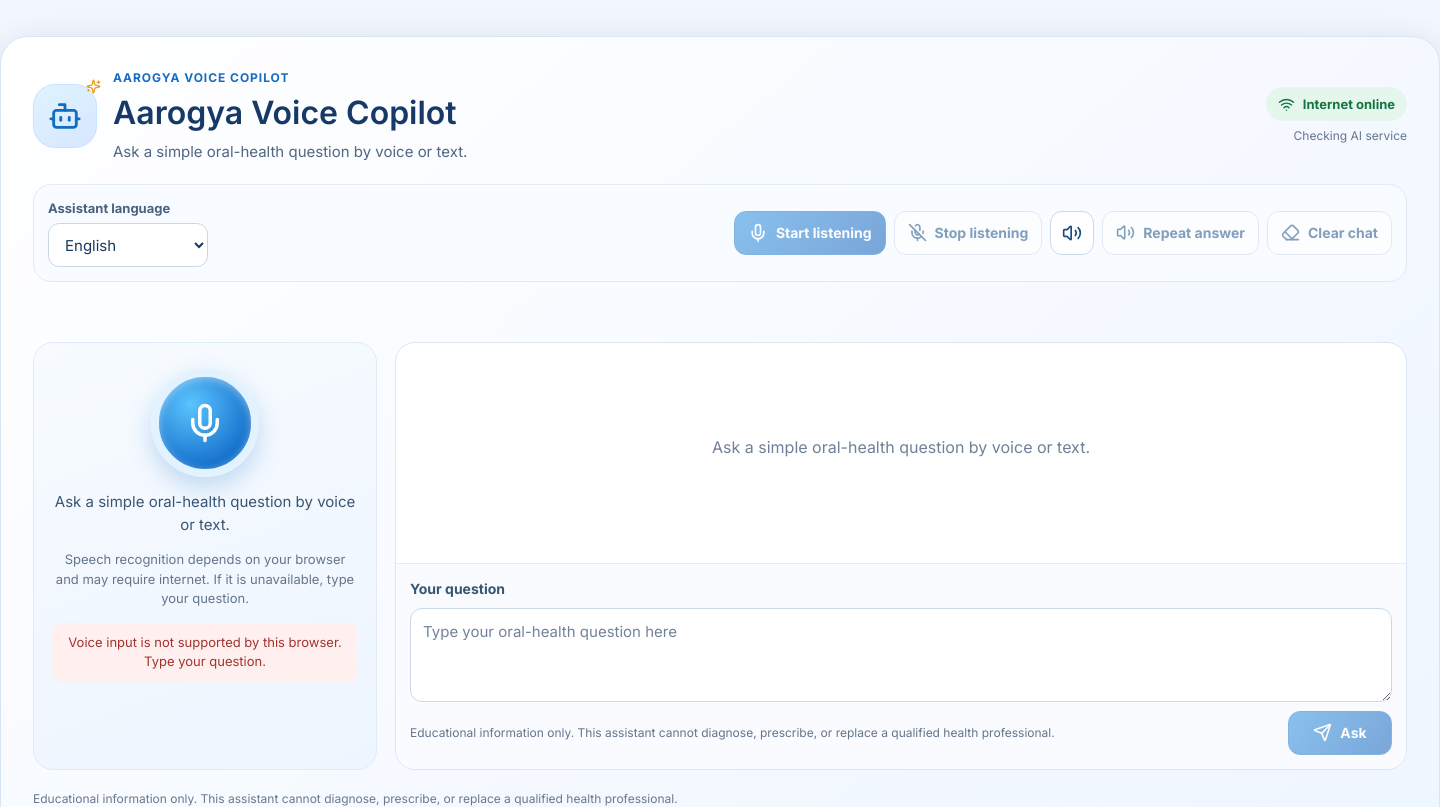
Test case: Home Page voice copilot › sends online questions to the backend in the selected language and speaks the answer
Type "What is oral cancer?" into the text box labelled "Your question" at (901, 655), box [410,608,1392,702]
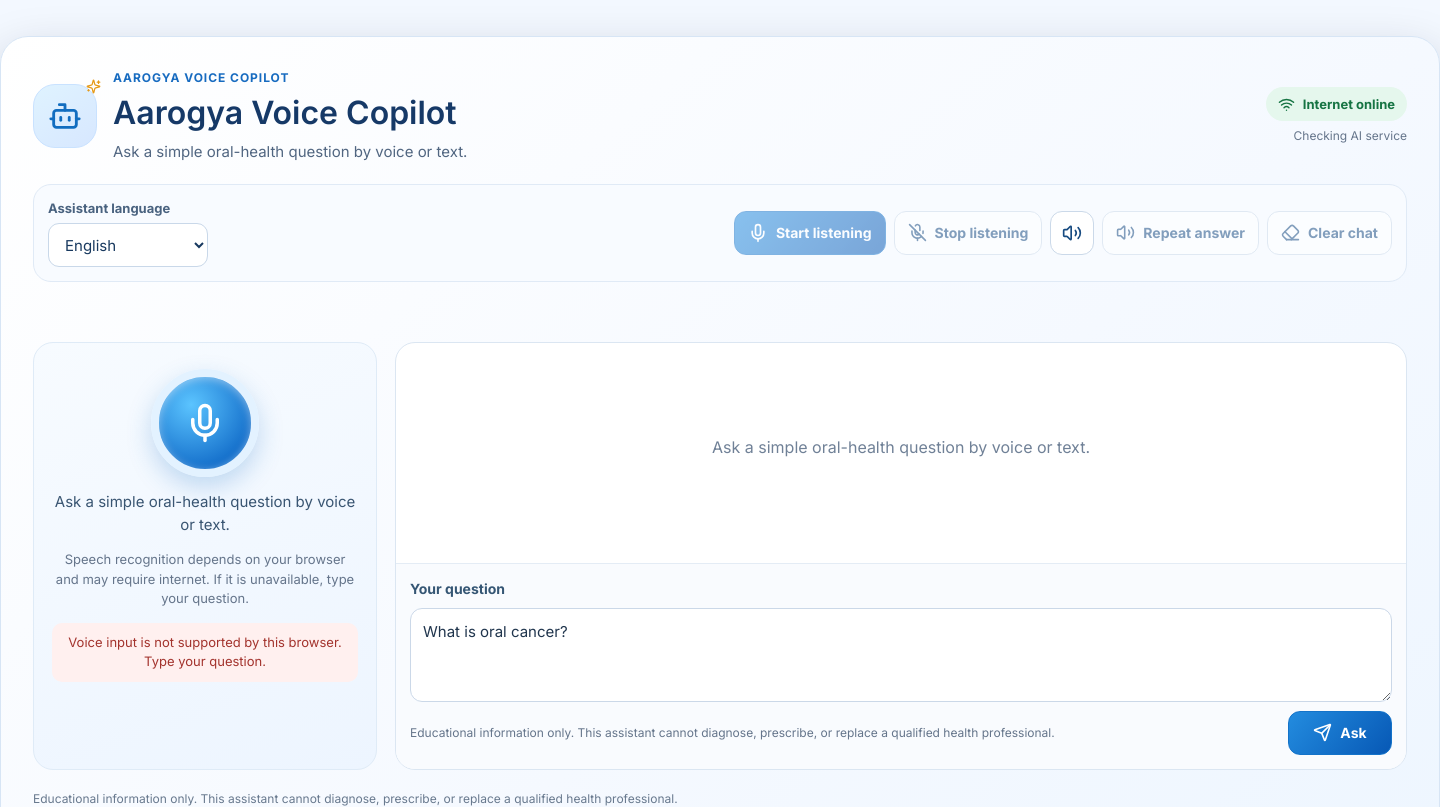
Click the button "Ask" at (1340, 732), box [1288,710,1392,754]
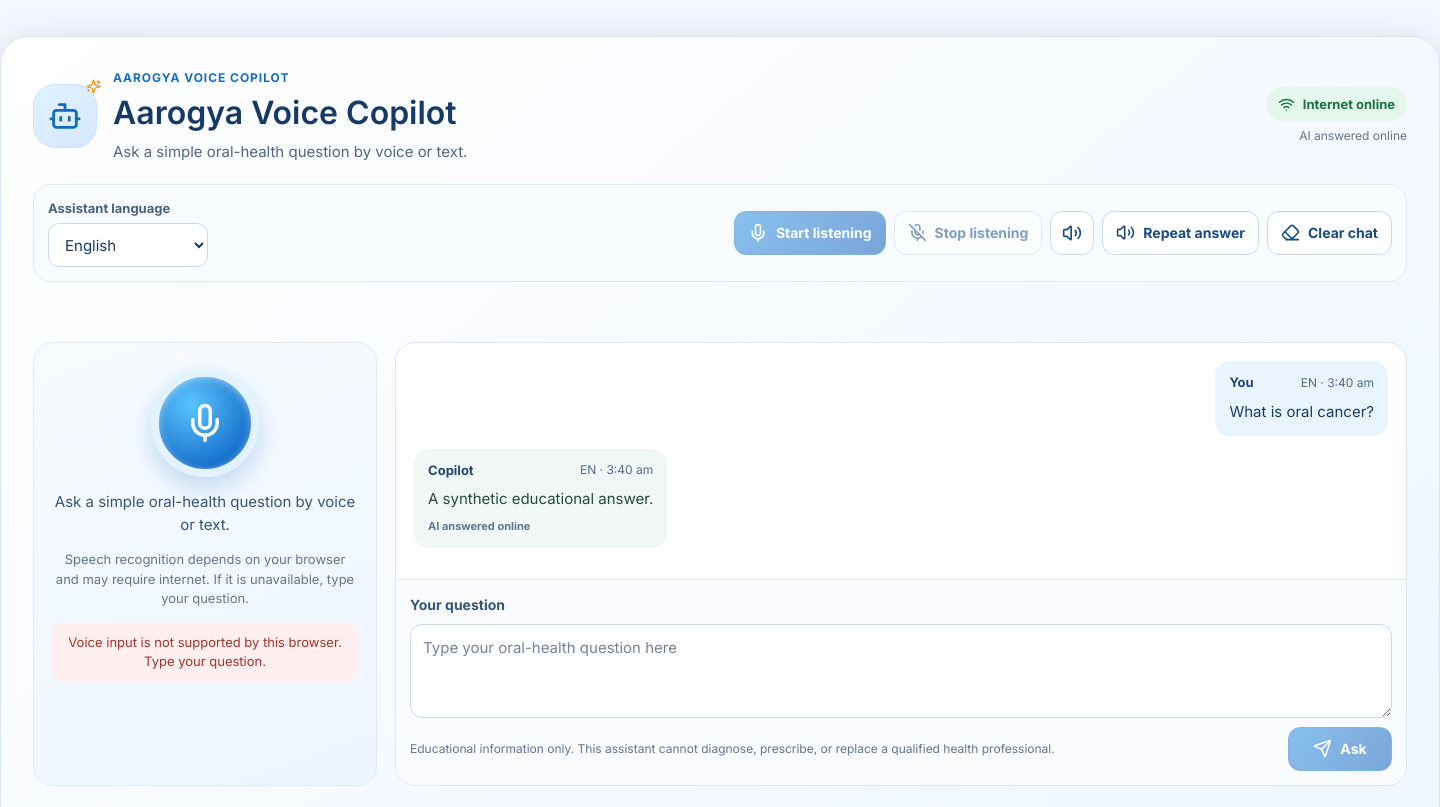
expect the text "A synthetic educational answer." is shown: met, box [428,487,653,511]
